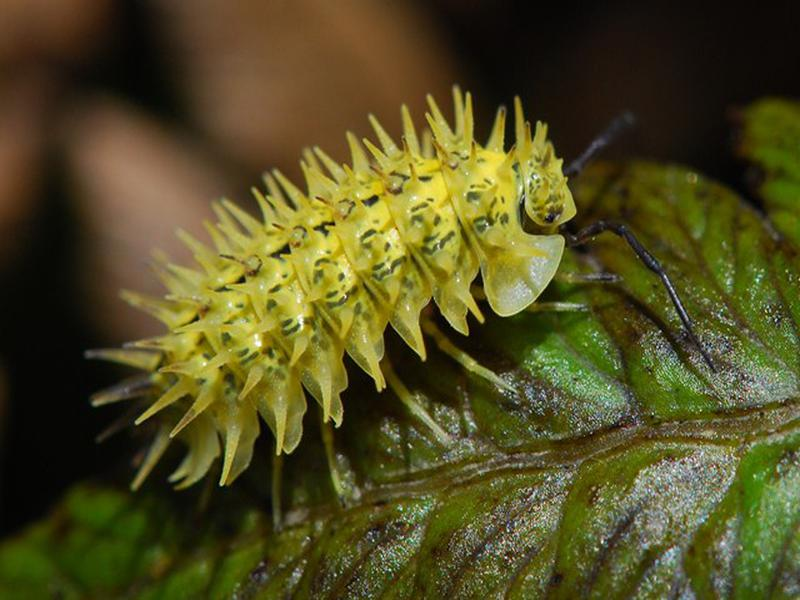Spiny_beetle: (90, 87, 630, 484)
